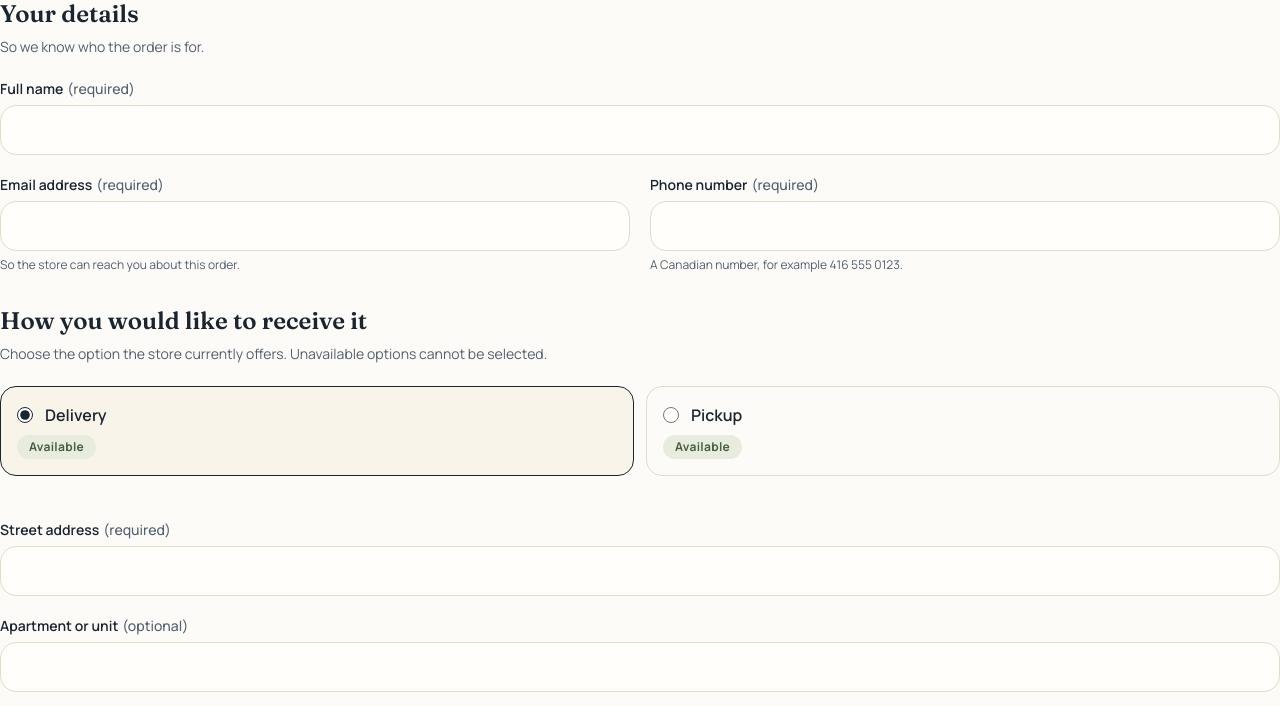
Test case: CustomerForm: fulfilment › restores the address fields when delivery is chosen again
Click the radio button labelled "Pickup Available" at (671, 414), box 663,406 -> 679,422
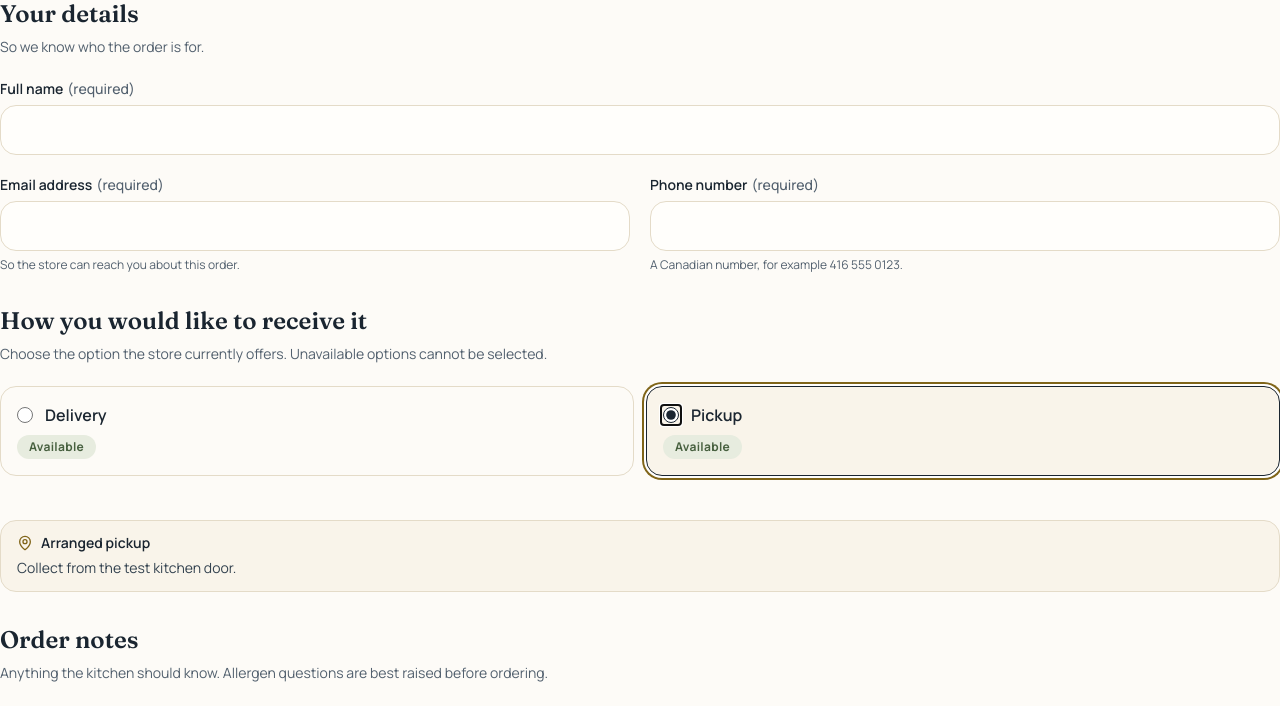
Click the radio button labelled "Delivery Available" at (25, 414), box 17,406 -> 33,422
(page scrolled)
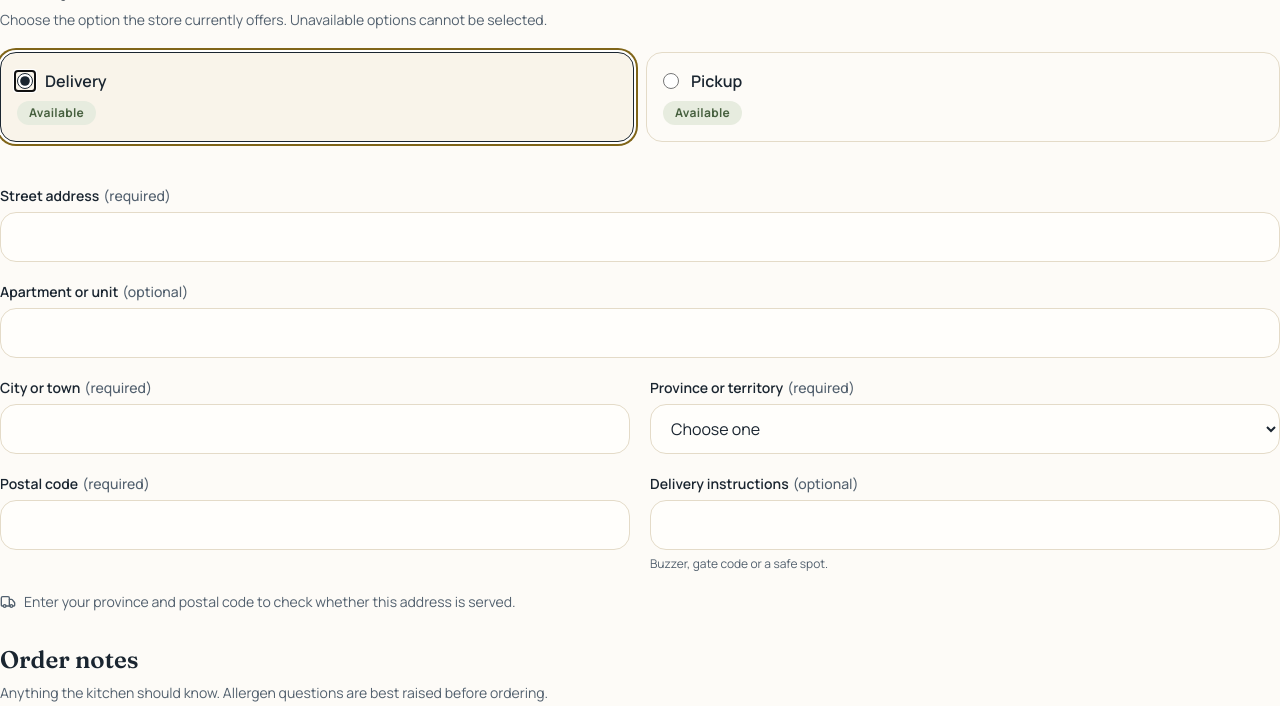
Now the element with test id "delivery-fields" is shown
